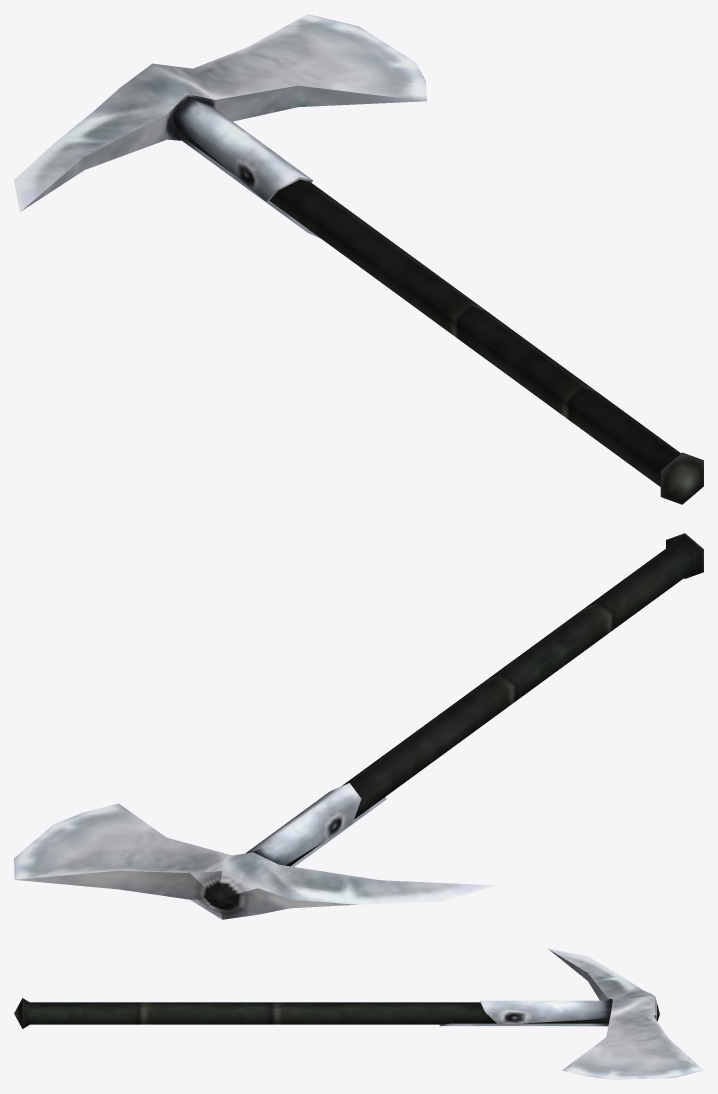
File: pir_m_hnd_axe_boarding_c.fbx
3 renders of one model, top to bottom at view 1: azimuth 30°, elevation 25°; view 2: azimuth 150°, elevation 25°; view 3: azimuth 270°, elevation 25°, orthographic. The views are drawn at different scales.
Visible parts, largest first — view 1: head, handle, handleBrace_left; view 2: head, handle, handleBrace_left; view 3: handle, head, handleBrace_left, handleBrace_right.
Part boxes in pixels (x1=…): head: x1=14, y1=14, x2=426, y2=211; handle: x1=176, y1=126, x2=703, y2=504; handleBrace_left: x1=173, y1=96, x2=313, y2=201; head: x1=14, y1=803, x2=496, y2=919; handle: x1=285, y1=533, x2=703, y2=866; handleBrace_left: x1=245, y1=783, x2=361, y2=865; handle: x1=14, y1=998, x2=609, y2=1028; head: x1=548, y1=948, x2=703, y2=1079; handleBrace_left: x1=480, y1=1000, x2=612, y2=1024; handleBrace_right: x1=439, y1=1023, x2=608, y2=1026.
Size of the model in its own units: 153 by 18.12 by 339.
1 material, 1 textured.
